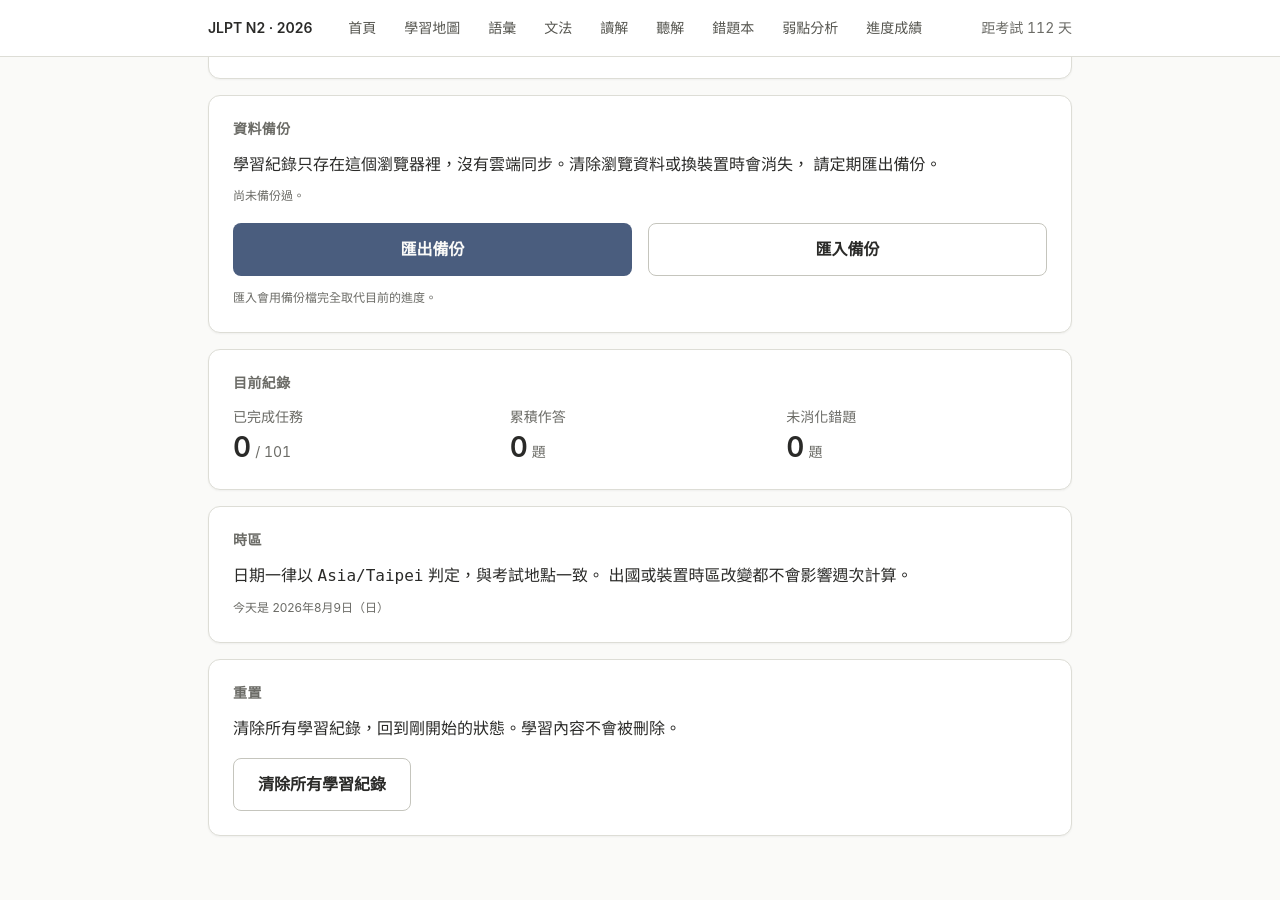
設定頁 › 重置的確認可以取消
(page scrolled)
Click the button "清除所有學習紀錄": (322, 785) [233,758,411,811]
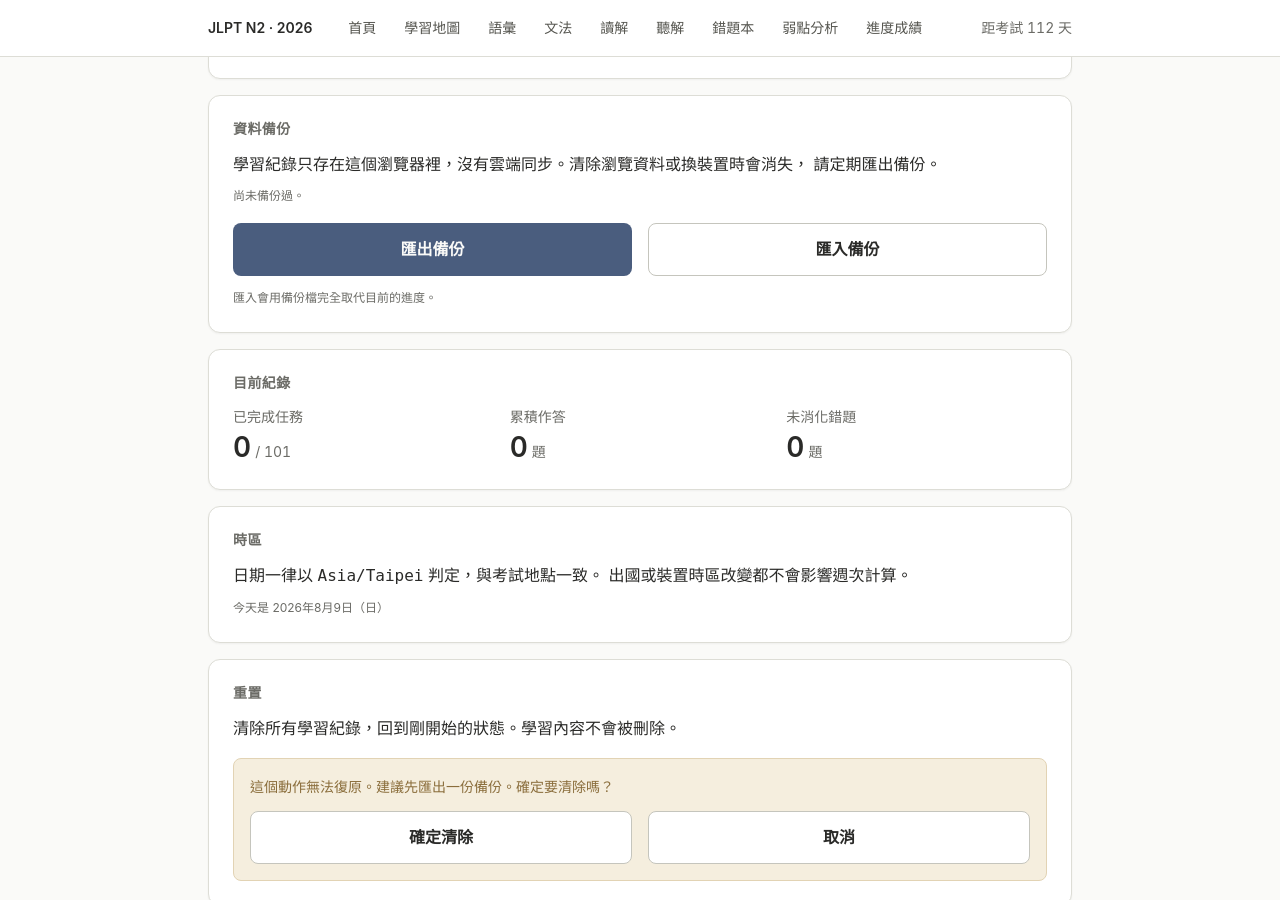
Click the button "取消": (839, 837) [648,811,1030,864]
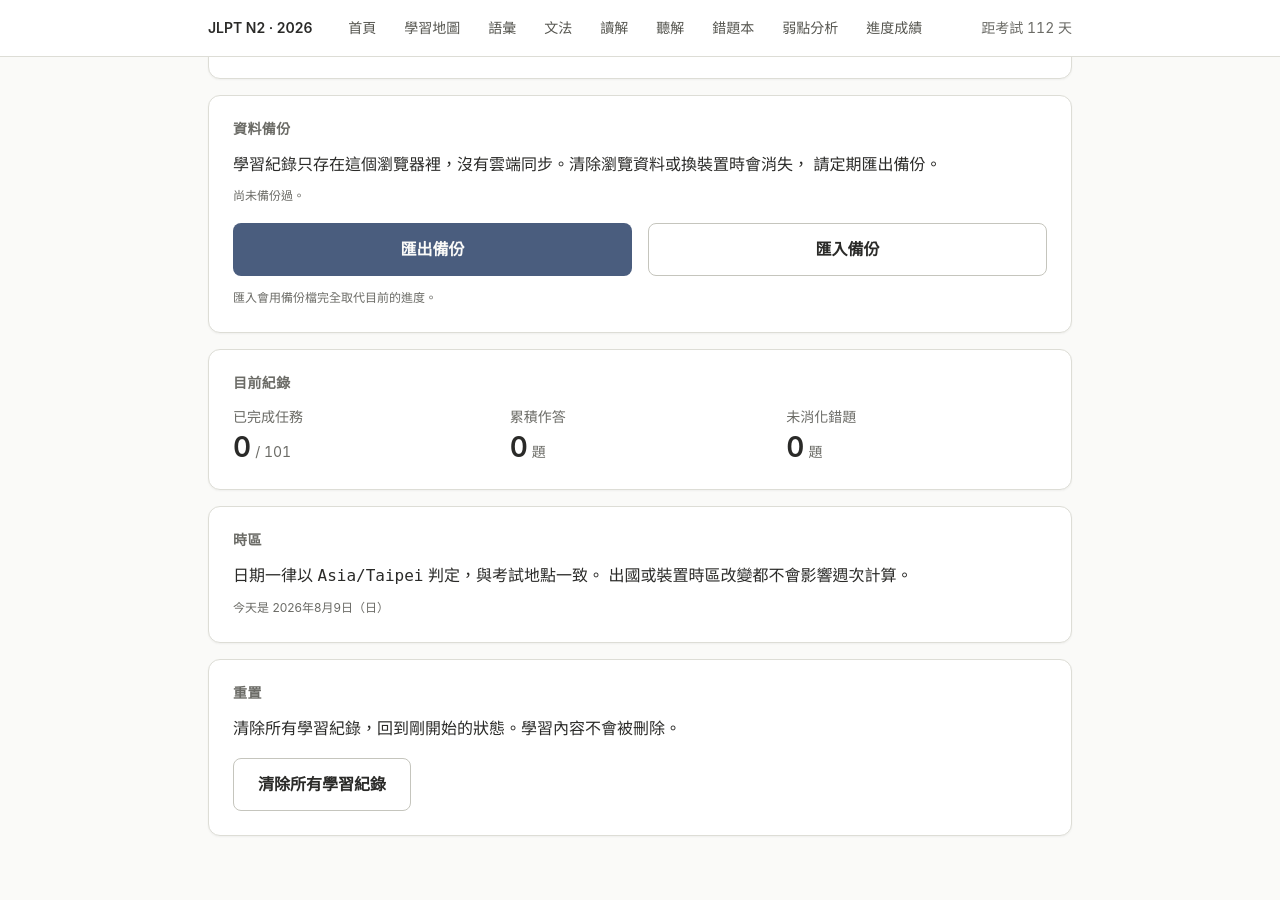
Now the text "這個動作無法復原" is gone
